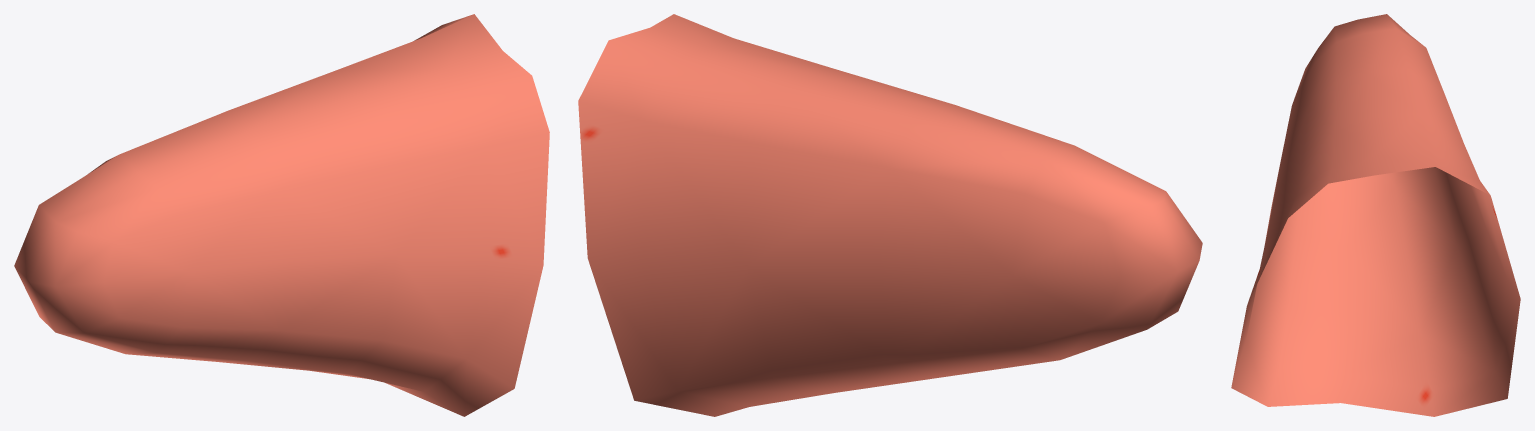
File: patrickrightfin.obj
3 renders of one model, left to right at view 1: azimuth 30°, elevation 25°; view 2: azimuth 150°, elevation 25°; view 3: azimuth 270°, elevation 25°, orthographic. The views are drawn at different scales.
Visible parts, largest first — view 1: Patrick.001_Patrick.002; view 2: Patrick.001_Patrick.002; view 3: Patrick.001_Patrick.002.
Part boxes in pixels (x1,y1,x2,y2): Patrick.001_Patrick.002: (14, 14, 549, 416); Patrick.001_Patrick.002: (578, 14, 1202, 416); Patrick.001_Patrick.002: (1231, 14, 1520, 416).
Size of the model in its own units: 1.65 by 1.03 by 0.92.
1 material, 1 textured.
